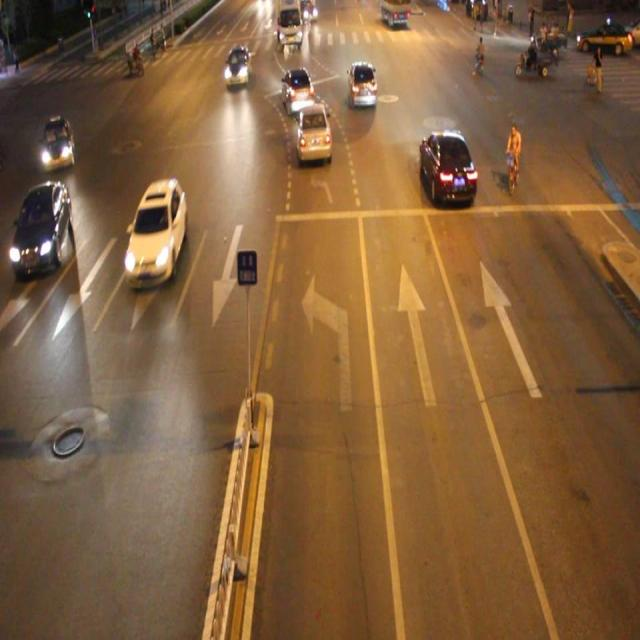car: (124, 178, 185, 286), (11, 180, 72, 273), (418, 128, 476, 205), (295, 104, 334, 164), (39, 117, 75, 172), (280, 67, 316, 119), (347, 61, 378, 110)
